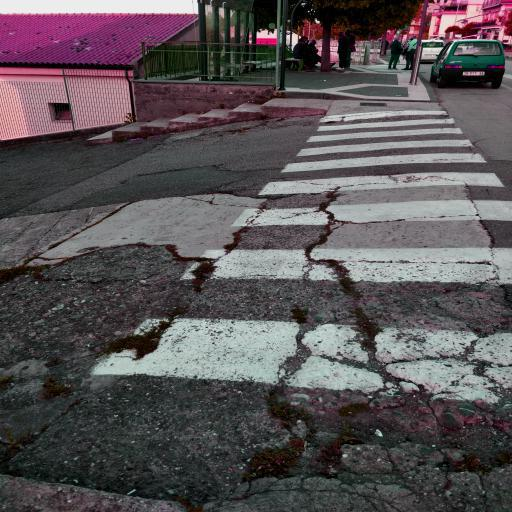crosswalk: (240, 153, 509, 200), (298, 114, 470, 146)
